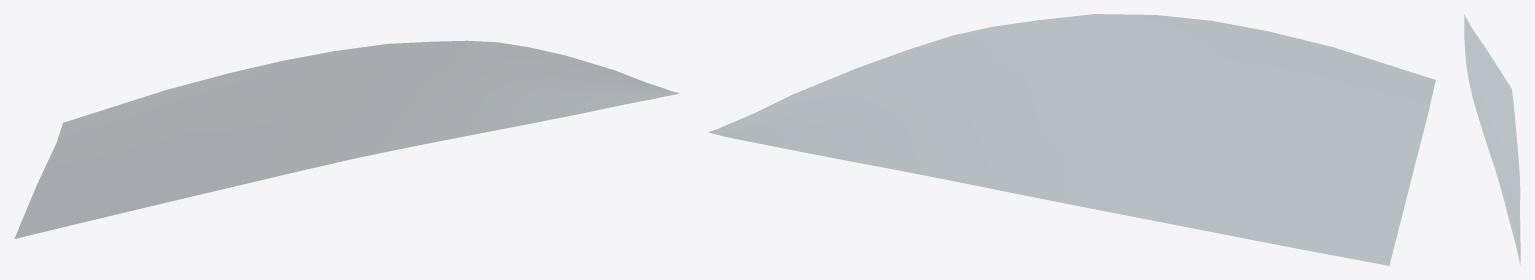
3 renders of one model, left to right at view 1: azimuth 30°, elevation 25°; view 2: azimuth 150°, elevation 25°; view 3: azimuth 270°, elevation 25°, orthographic. The views are drawn at different scales.
Parts seen in each view (by area): view 1: SM_MercedesCCC_Door_FL_Glass_Int2; view 2: SM_MercedesCCC_Door_FL_Glass_Int2; view 3: SM_MercedesCCC_Door_FL_Glass_Int2.
Boxes of the visible parts, x1,y1,x2,y2 form: SM_MercedesCCC_Door_FL_Glass_Int2: (14,41,678,238); SM_MercedesCCC_Door_FL_Glass_Int2: (709,14,1435,265); SM_MercedesCCC_Door_FL_Glass_Int2: (1464,15,1520,262).
Bounding box in the file's own units: 1.17 × 0.3061 × 0.1699.
